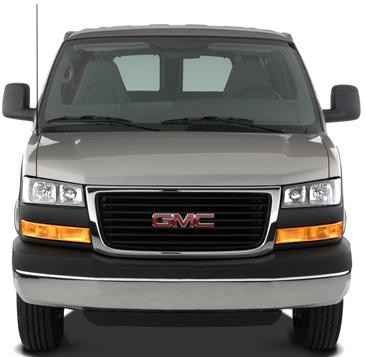front_view: (17, 166, 350, 315)
headlight: (13, 160, 101, 244)
